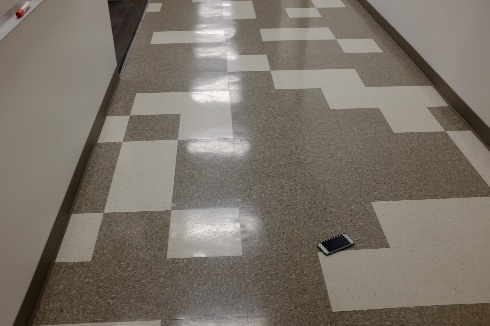phone: (311, 228, 360, 260)
